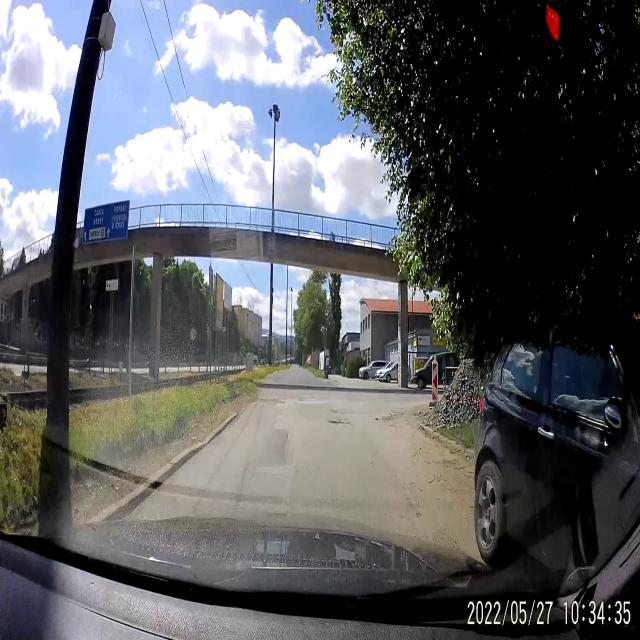Pothole: (256, 396, 286, 408), (324, 417, 350, 427), (328, 403, 342, 417), (295, 396, 308, 405)
